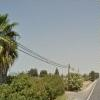Palm tree: (2, 10, 19, 99)
